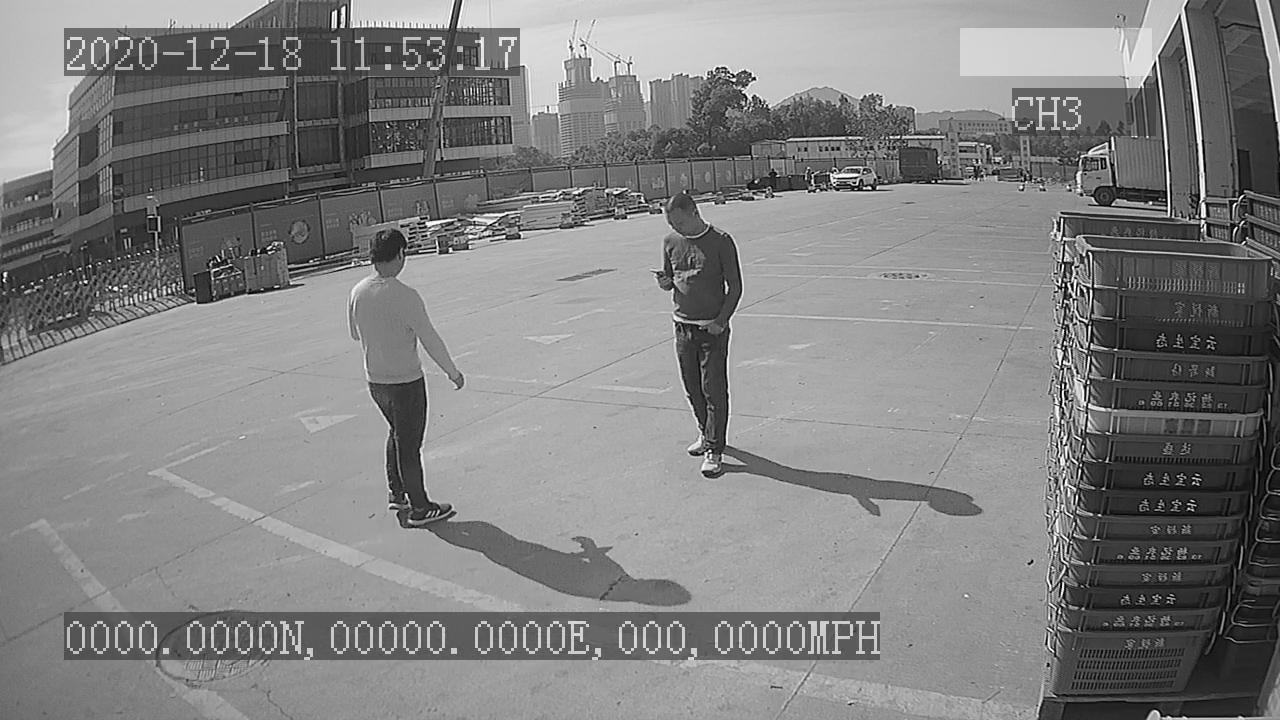person: (338, 222, 474, 538), (642, 185, 749, 483)
